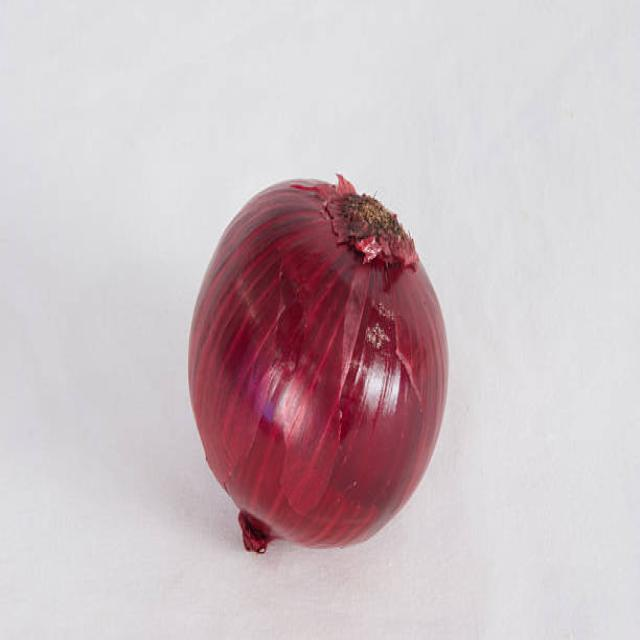onion: (184, 174, 449, 575)
